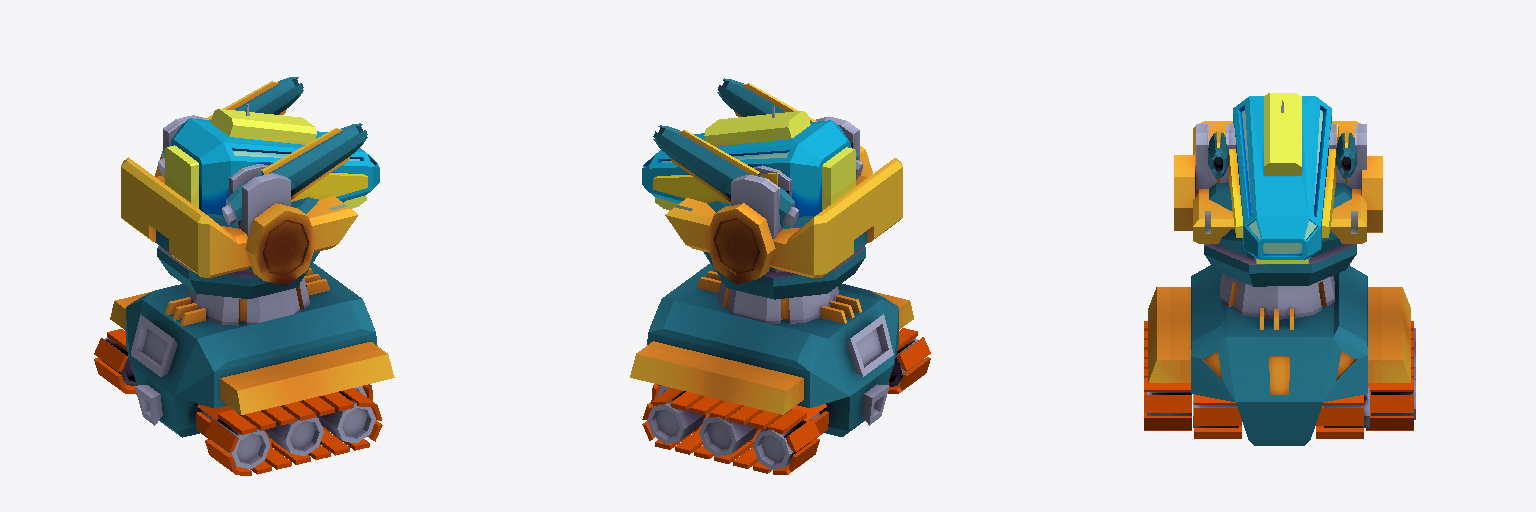
The picture shows the model from 3 angles: view 1: azimuth 30°, elevation 25°; view 2: azimuth 150°, elevation 25°; view 3: azimuth 270°, elevation 25°; orthographic projection.
Parts seen in each view (by area): view 1: Object008, Box020, Object014, Box018, Box019, Box017; view 2: Object008, Object014, Box019, Box018, Box020, Box016; view 3: Object008, Box020, Box019, Box017, Box016, Object014, Box018, Box009.
Boxes of the visible parts, x1,y1,x2,y2 form: Object008: [110, 109, 394, 437]; Box020: [205, 388, 382, 475]; Object014: [158, 77, 367, 225]; Box018: [99, 337, 375, 468]; Box019: [94, 329, 136, 394]; Box017: [196, 384, 372, 446]; Object008: [630, 111, 913, 436]; Object014: [653, 78, 862, 227]; Box019: [642, 388, 819, 474]; Box018: [647, 338, 923, 469]; Box020: [888, 328, 930, 393]; Box016: [651, 384, 828, 443]; Object008: [1148, 93, 1410, 445]; Box020: [1144, 321, 1191, 430]; Box019: [1366, 321, 1413, 430]; Box017: [1194, 394, 1241, 438]; Box016: [1316, 395, 1363, 438]; Object014: [1208, 131, 1356, 182]; Box018: [1147, 328, 1415, 419]; Box009: [1193, 387, 1369, 427].
Size of the model in its own units: 65.77 by 84.81 by 68.55.
5 materials, 2 textured.